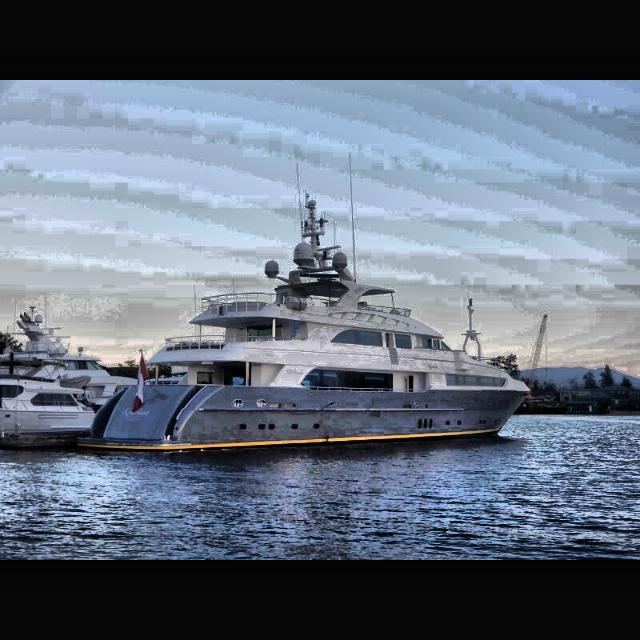yacht: (75, 236, 533, 457)
